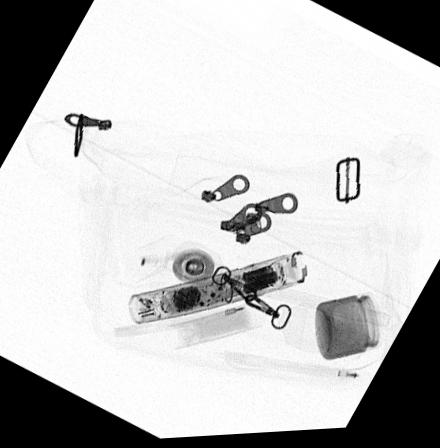Baton: (127, 252, 308, 326)
